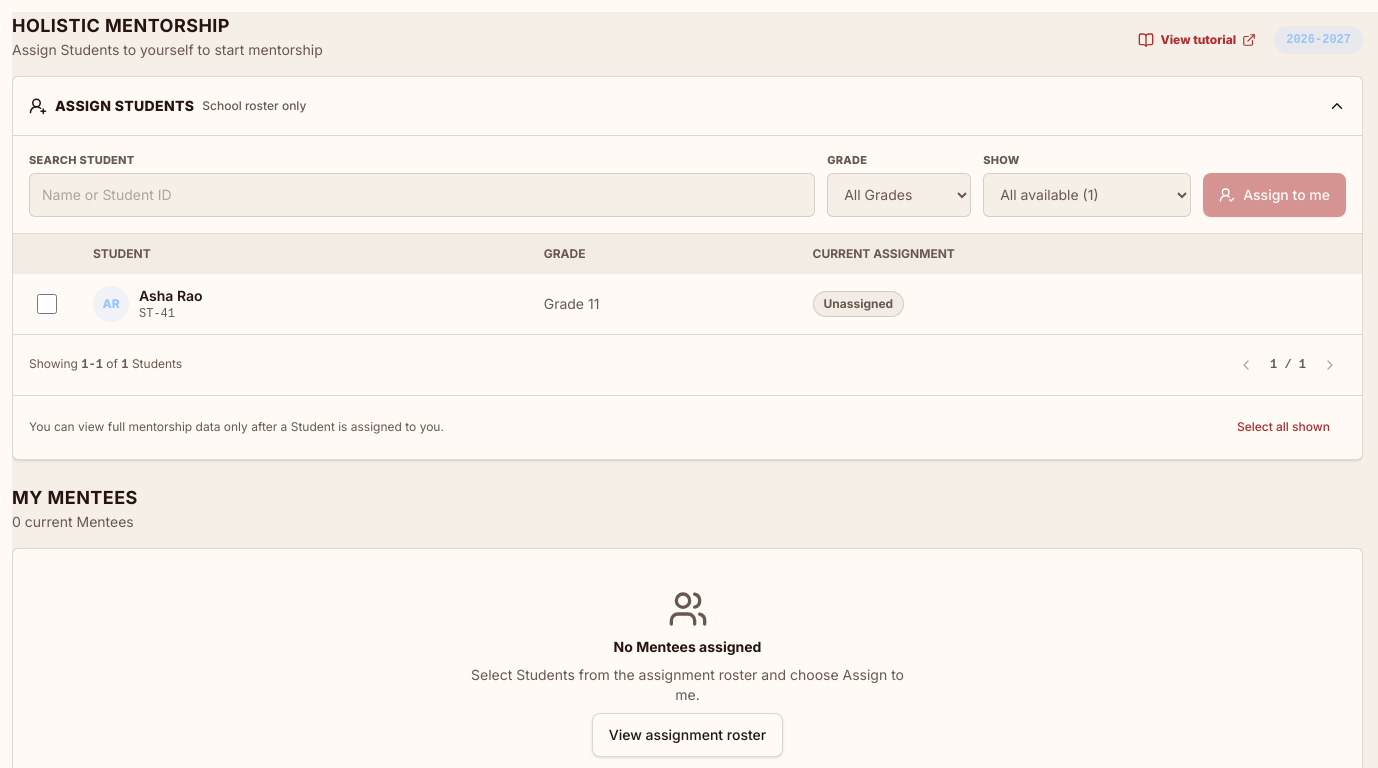
Scenario: TeacherMappingWorkspace › claims the selected current roster facts and refreshes immediately
This screenshot has width=1378, height=768.
Click the checkbox named "Select Asha Rao".
click(47, 304)  # box [37,294,57,314]
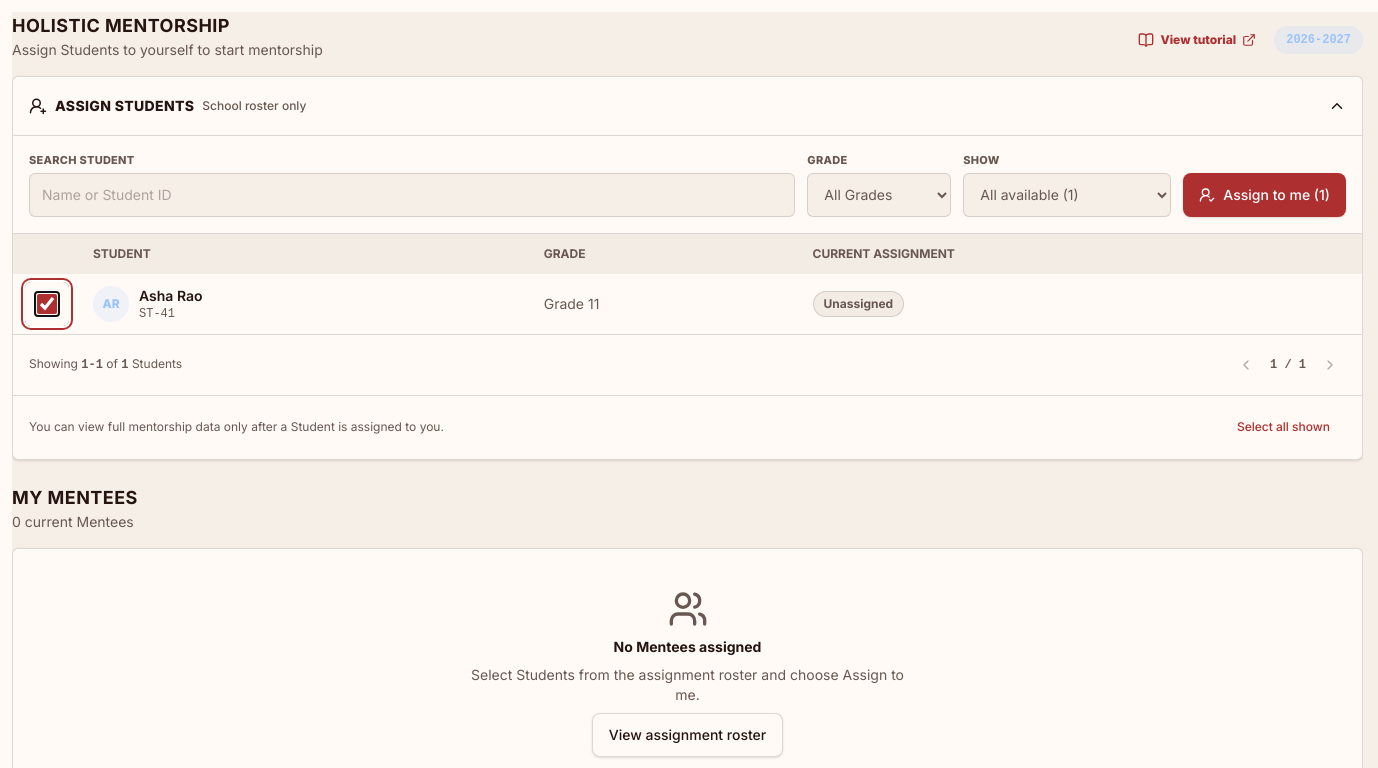
Click the button "Assign to me (1)".
click(1265, 194)  # box [1183,172,1346,216]
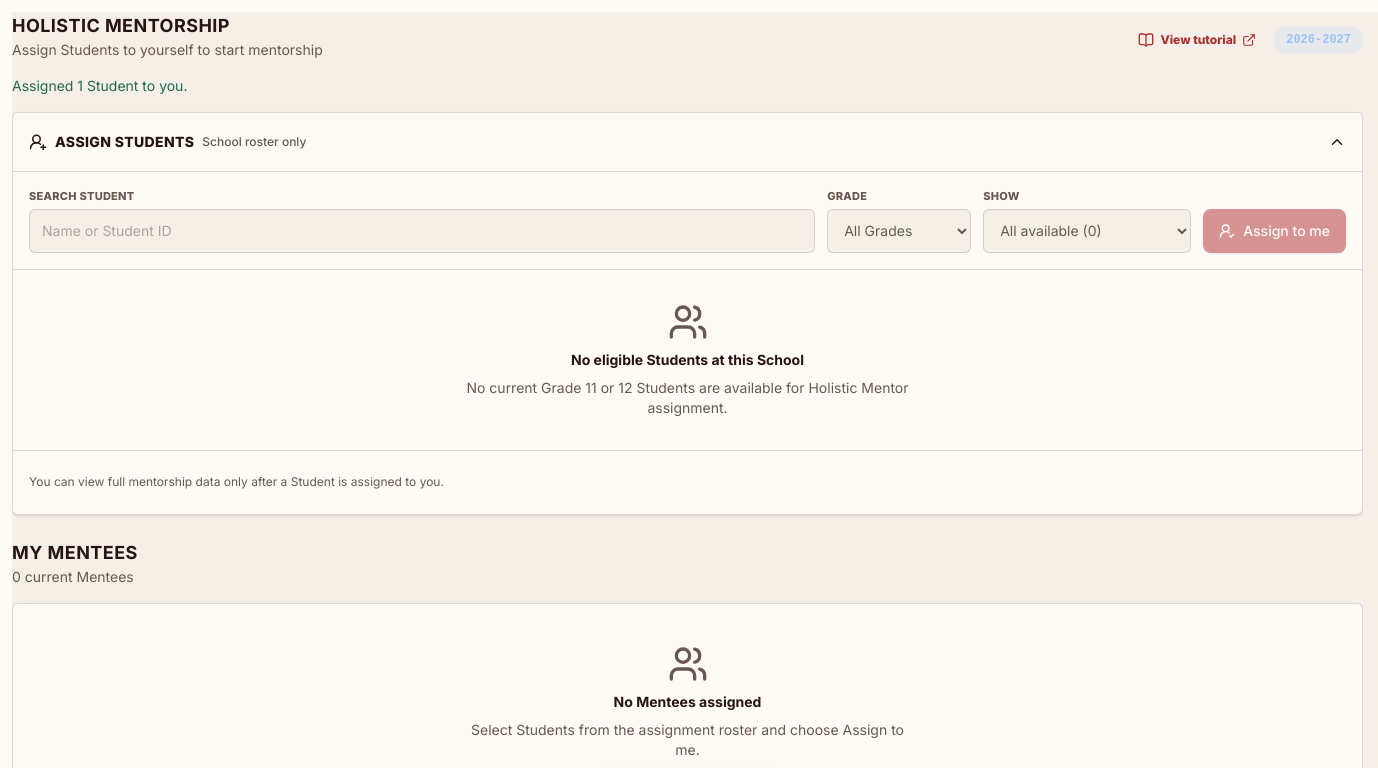
Now the heading "No eligible Students at this School" is shown, box [571,350,804,368]
